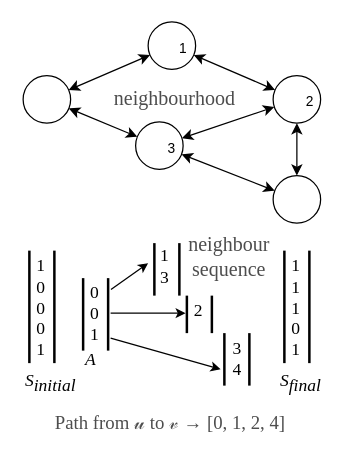
Some shapes in this 361 by 466 pixel diagram are drawn without their labels. Here are the shapes that lost their labels. From the top down, the box of each, then its label:
(22, 74, 71, 123): 𝓊 0
(272, 174, 321, 223): 𝓋 4
